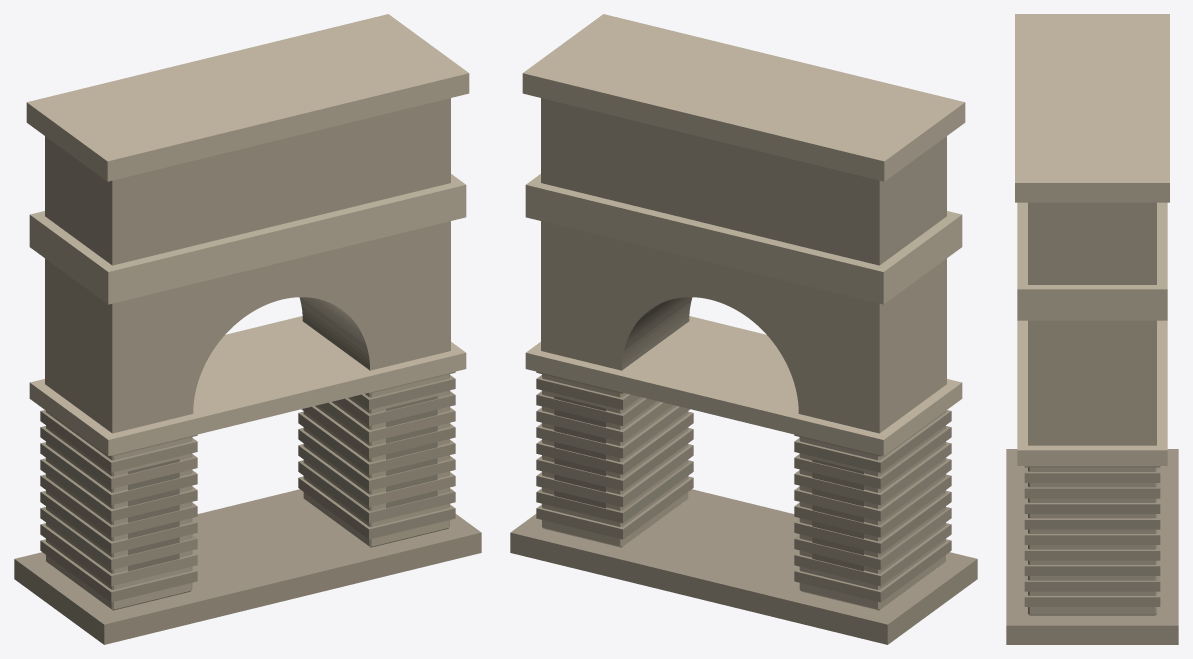
3 views of the same model, side by side, from view 1: azimuth 30°, elevation 25°; view 2: azimuth 150°, elevation 25°; view 3: azimuth 270°, elevation 25° (orthographic). The views are drawn at different scales.
Parts seen in each view (by area): view 1: washington-square-arch-lod0; view 2: washington-square-arch-lod0; view 3: washington-square-arch-lod0.
Boxes of the visible parts, x1,y1,x2,y2 form: washington-square-arch-lod0: (14,14,481,644); washington-square-arch-lod0: (510,14,977,644); washington-square-arch-lod0: (1006,14,1178,644).
Size of the model in its own units: 38.8 by 47 by 16.
